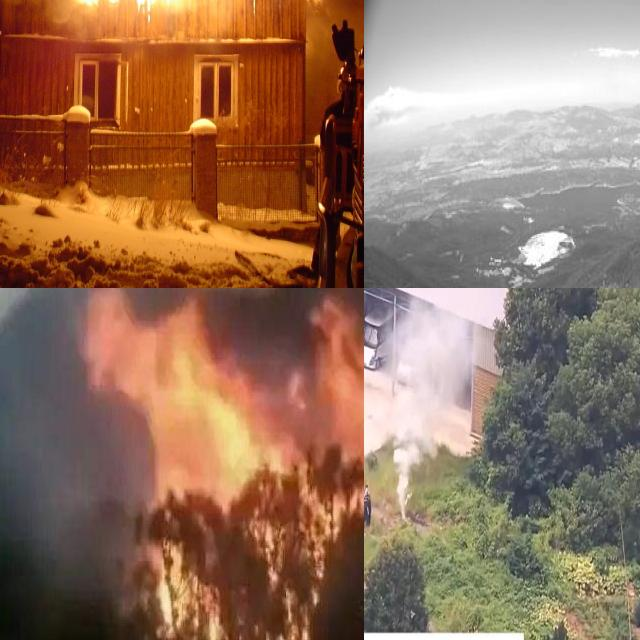fire: (87, 288, 364, 640)
smoke: (0, 388, 131, 612), (387, 288, 476, 516)
